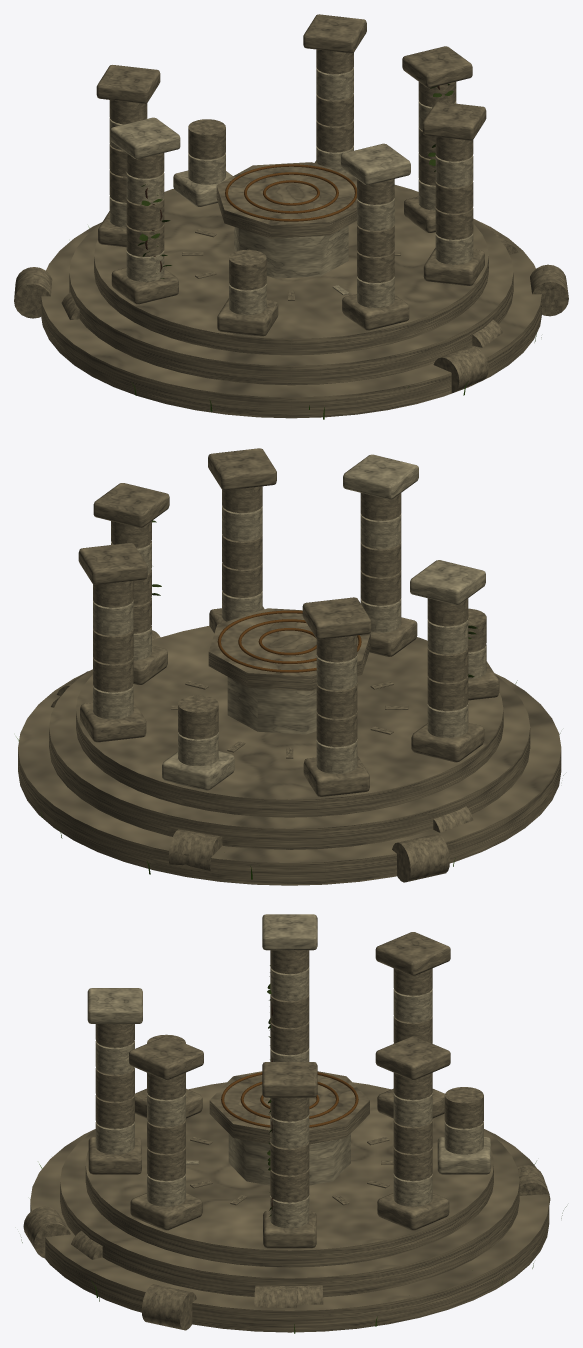
File: 04_ancient_ruins_v3_shrine.glb
3 views of the same model, one above another, from view 1: azimuth 30°, elevation 25°; view 2: azimuth 150°, elevation 25°; view 3: azimuth 270°, elevation 25° (orthographic). The views are drawn at different scales.
Visible parts, largest first — view 1: 04_ancient_ruins_v3_shrine | Ruins | aged sandstone, 04_ancient_ruins_v3_shrine | Ruins | pale broken stone, 04_ancient_ruins_v3_shrine | Tower | oxidized bronze, Ruins variant | ivy and encroaching grass.001; view 2: 04_ancient_ruins_v3_shrine | Ruins | aged sandstone, 04_ancient_ruins_v3_shrine | Ruins | pale broken stone, 04_ancient_ruins_v3_shrine | Tower | oxidized bronze; view 3: 04_ancient_ruins_v3_shrine | Ruins | aged sandstone, 04_ancient_ruins_v3_shrine | Ruins | pale broken stone, 04_ancient_ruins_v3_shrine | Tower | oxidized bronze.
Boxes of the visible parts, left/top/right/bottom form: 04_ancient_ruins_v3_shrine | Ruins | aged sandstone: left=14, top=14, right=568, bottom=418; 04_ancient_ruins_v3_shrine | Ruins | pale broken stone: left=109, top=67, right=473, bottom=315; 04_ancient_ruins_v3_shrine | Tower | oxidized bronze: left=225, top=164, right=356, bottom=221; Ruins variant | ivy and encroaching grass.001: left=88, top=83, right=541, bottom=419; 04_ancient_ruins_v3_shrine | Ruins | aged sandstone: left=18, top=448, right=561, bottom=885; 04_ancient_ruins_v3_shrine | Ruins | pale broken stone: left=93, top=454, right=486, bottom=790; 04_ancient_ruins_v3_shrine | Tower | oxidized bronze: left=217, top=610, right=361, bottom=672; 04_ancient_ruins_v3_shrine | Ruins | aged sandstone: left=23, top=932, right=550, bottom=1332; 04_ancient_ruins_v3_shrine | Ruins | pale broken stone: left=87, top=914, right=490, bottom=1228; 04_ancient_ruins_v3_shrine | Tower | oxidized bronze: left=221, top=1072, right=358, bottom=1127.
Bounding box in the file's own units: 6.21 × 2.93 × 6.52.
Materials: 7 (7 with a texture image).
